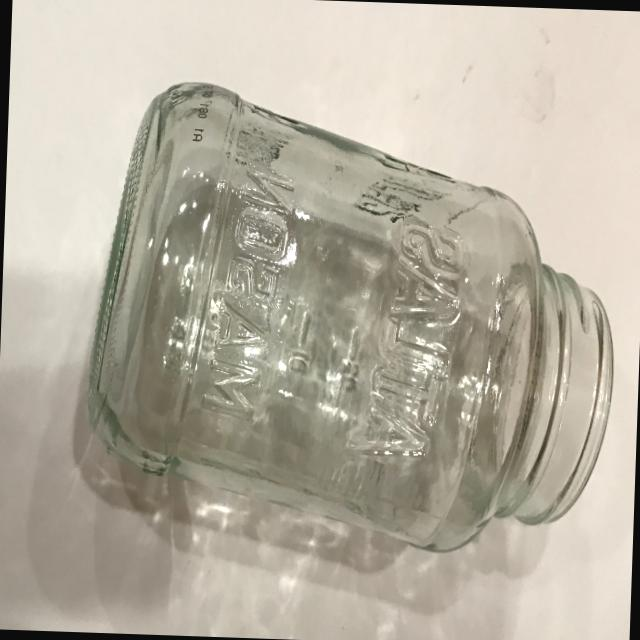Glass: (72, 58, 636, 576)
